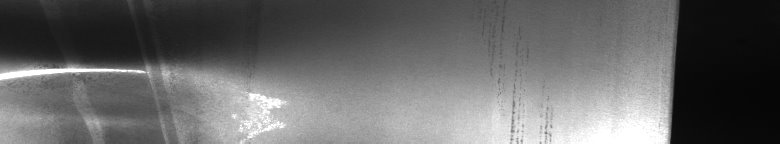ke: (4, 4, 286, 136)
